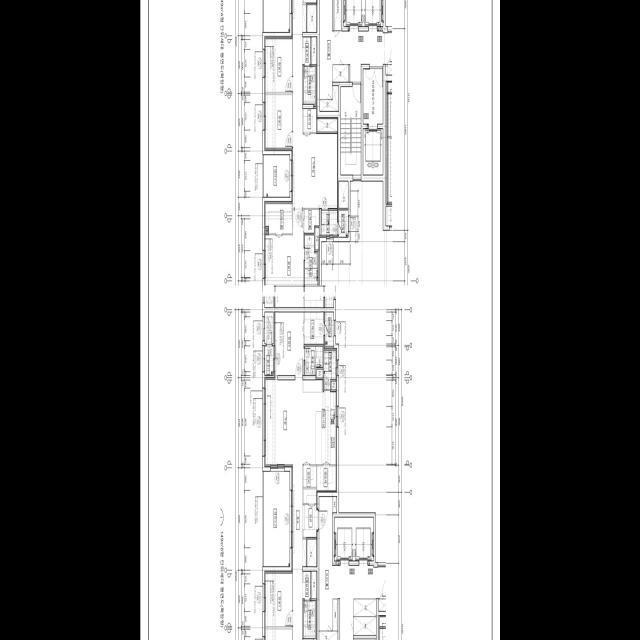background: (140, 0, 500, 640)
space_balconi: (263, 472, 289, 567), (263, 155, 289, 197), (263, 0, 289, 32), (264, 312, 273, 375)
space_bedroom: (264, 211, 303, 302), (274, 312, 303, 376), (264, 572, 292, 627), (264, 95, 292, 150), (264, 37, 292, 92)
space_dressroom: (264, 202, 292, 233), (304, 312, 324, 344), (304, 210, 319, 233)
space_elevator: (363, 124, 382, 175), (334, 518, 354, 561), (354, 517, 373, 561), (363, 0, 383, 31), (344, 0, 363, 31)
space_elevator_hall: (319, 497, 385, 640), (320, 0, 392, 124)
space_front: (302, 489, 318, 537)
space_kitchen: (302, 380, 336, 465)
space_living_room: (264, 378, 306, 640), (292, 0, 337, 208)
space_multipurpose_space: (323, 349, 336, 390), (321, 211, 337, 237)
space_other: (317, 466, 336, 492), (320, 86, 338, 111), (353, 617, 376, 635), (353, 599, 376, 616), (303, 109, 317, 132), (317, 118, 337, 132), (303, 466, 316, 487), (332, 65, 348, 82), (307, 540, 317, 567), (307, 5, 317, 32), (339, 181, 348, 208), (334, 0, 341, 30), (311, 571, 317, 599), (319, 631, 337, 640), (311, 37, 317, 64), (332, 599, 337, 631), (315, 228, 319, 250), (378, 599, 385, 611), (332, 497, 336, 513), (316, 369, 322, 378), (331, 381, 336, 390)
space_outdoor_room: (324, 312, 333, 347), (339, 210, 348, 237)
space_staircase: (340, 87, 361, 175)
space_toilet: (302, 37, 315, 104), (302, 572, 315, 638), (304, 235, 317, 298), (305, 347, 322, 375)
